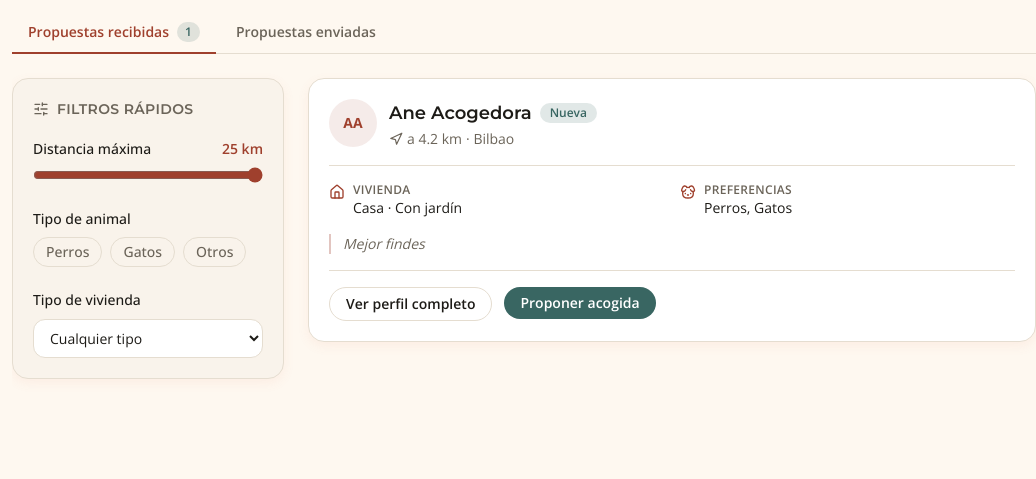
Scenario: GestionAcogidas › expande el perfil completo del acogedor al pulsar el botón
The image size is (1036, 479).
expect the text "Un gato tranquilo" is not shown: met
Click the button "Ver perfil completo" at point(411, 304), box [329, 287, 492, 321]
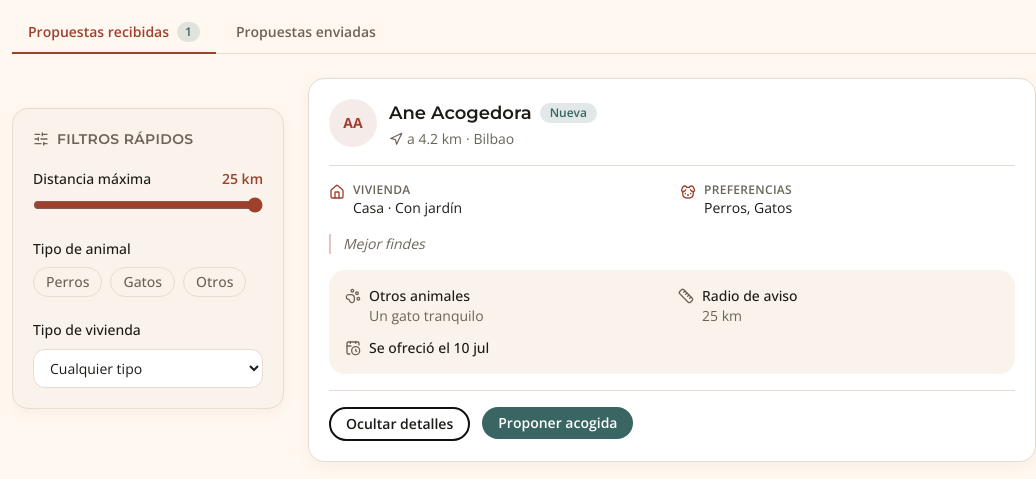
expect the text "Un gato tranquilo" is shown: met, box [369, 306, 484, 326]
